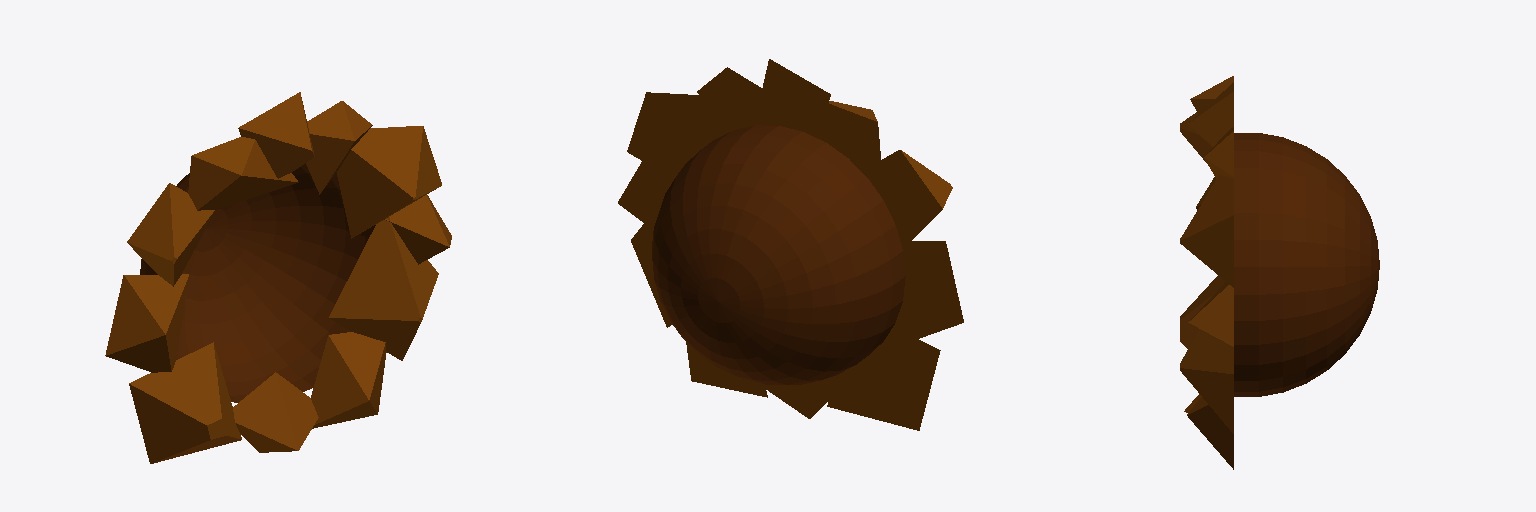
Rendered from duckhole.obj.
3 renders of one model, left to right at view 1: azimuth 30°, elevation 25°; view 2: azimuth 150°, elevation 25°; view 3: azimuth 270°, elevation 25°, orthographic.
Parts seen in each view (by area): view 1: Object.12, Object.11, Object.9, Object.8, Object.7, Object.2, Object.6, Object.10, Object.1, Object.5, Object.4, Object.3; view 2: Object.12, Object.11, Object.8, Object.7, Object.6, Object.10, Object.5, Object.4, Object.3, Object.1, Object.2, Object.9; view 3: Object.12, Object.8, Object.9, Object.3, Object.5, Object.2, Object.4, Object.11, Object.10, Object.6.
Boxes of the visible parts, box(x1,y1,x2,y2) form: Object.12: box(140, 163, 375, 402); Object.11: box(129, 342, 241, 463); Object.9: box(329, 216, 438, 360); Object.8: box(337, 126, 441, 238); Object.7: box(105, 274, 188, 372); Object.2: box(311, 332, 386, 428); Object.6: box(188, 137, 298, 210); Object.10: box(127, 183, 214, 286); Object.1: box(233, 372, 318, 452); Object.5: box(238, 92, 314, 178); Object.4: box(306, 101, 372, 194); Object.3: box(384, 195, 451, 264); Object.12: box(652, 125, 905, 384); Object.11: box(827, 327, 940, 430); Object.8: box(627, 92, 741, 177); Object.7: box(893, 241, 963, 338); Object.6: box(787, 96, 882, 185); Object.10: box(872, 150, 952, 240); Object.5: box(754, 59, 830, 127); Object.4: box(697, 67, 777, 131); Object.3: box(618, 157, 676, 229); Object.1: box(757, 376, 846, 418); Object.2: box(686, 342, 767, 397); Object.9: box(631, 200, 672, 327); Object.12: box(1234, 133, 1379, 396); Object.8: box(1180, 175, 1233, 287); Object.9: box(1180, 329, 1233, 433); Object.3: box(1188, 282, 1233, 346); Object.5: box(1188, 82, 1233, 146); Object.2: box(1187, 397, 1233, 469); Object.4: box(1204, 127, 1233, 178); Object.11: box(1180, 275, 1225, 348); Object.10: box(1180, 112, 1212, 162); Object.6: box(1190, 76, 1233, 113).
Size of the model in its own units: 120 by 116 by 60.02.